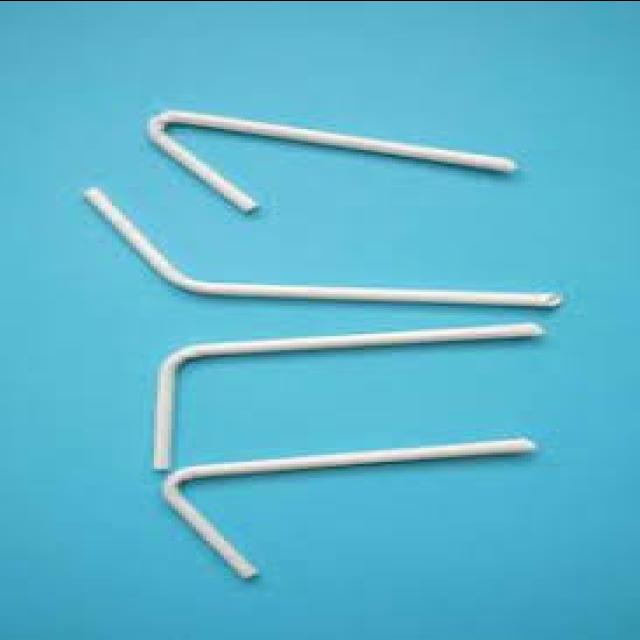straw: (85, 189, 559, 303)
